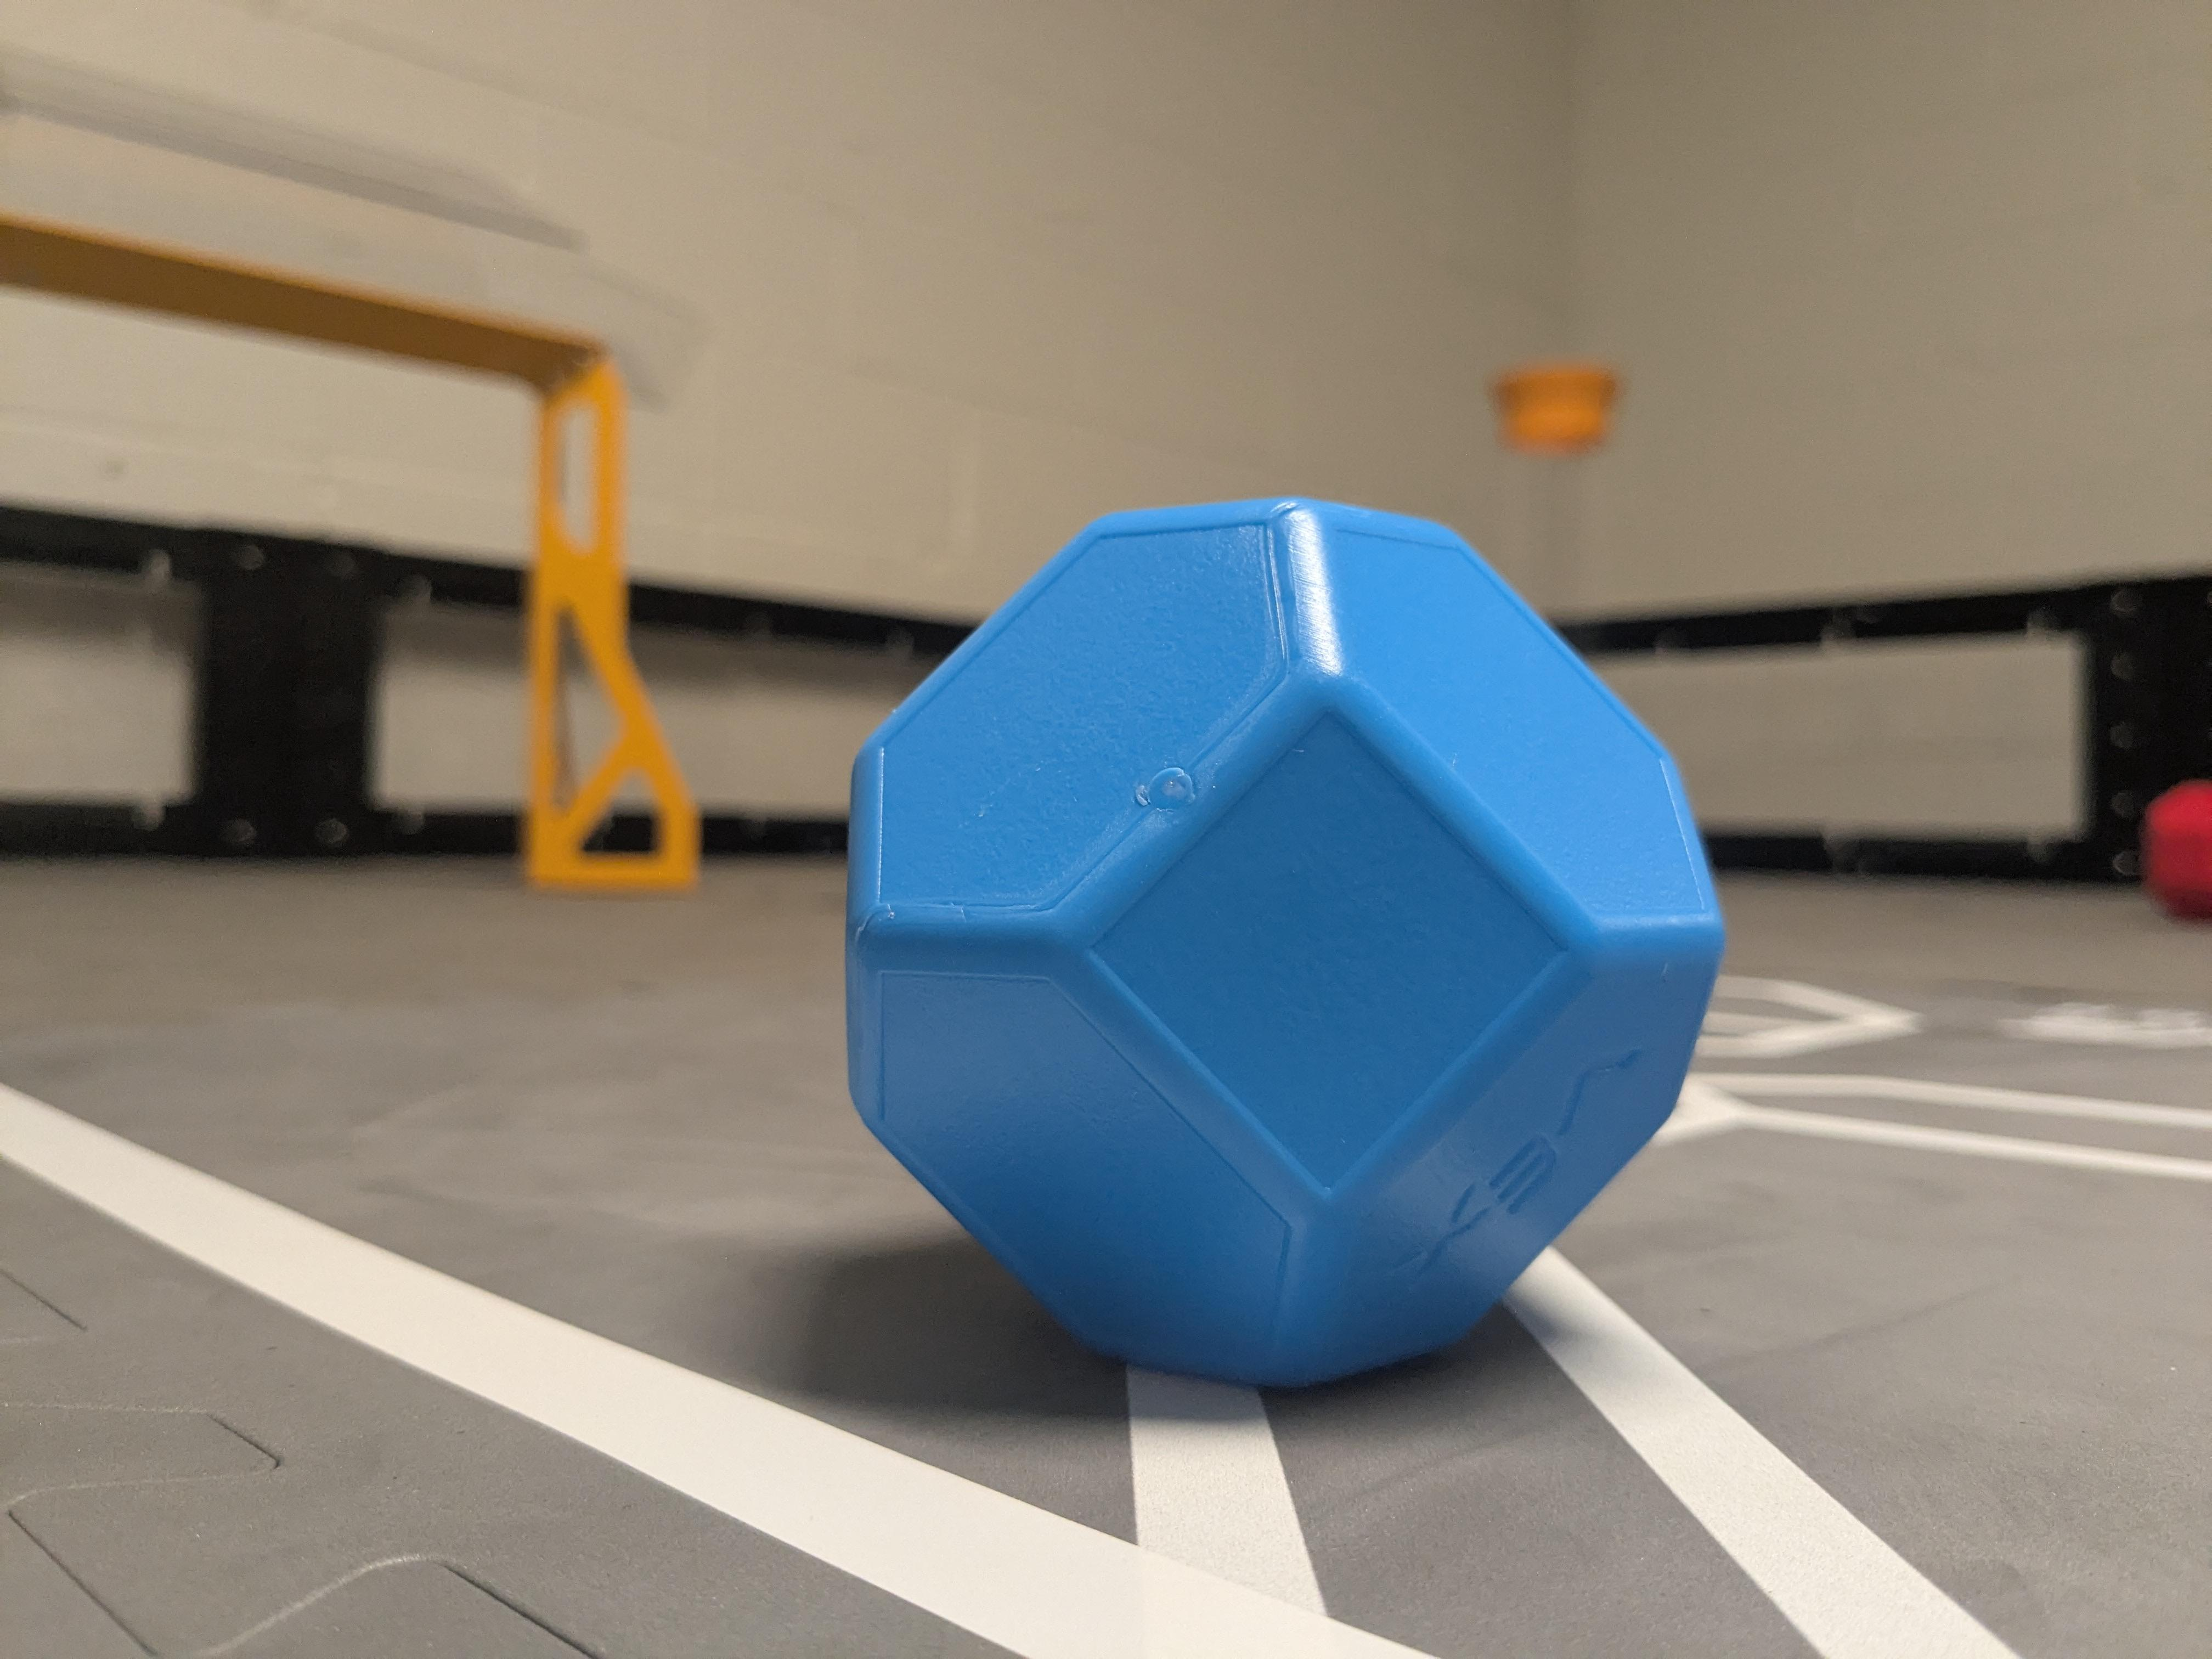Vex-Pieces-BLUE: (845, 498, 1723, 1385)
